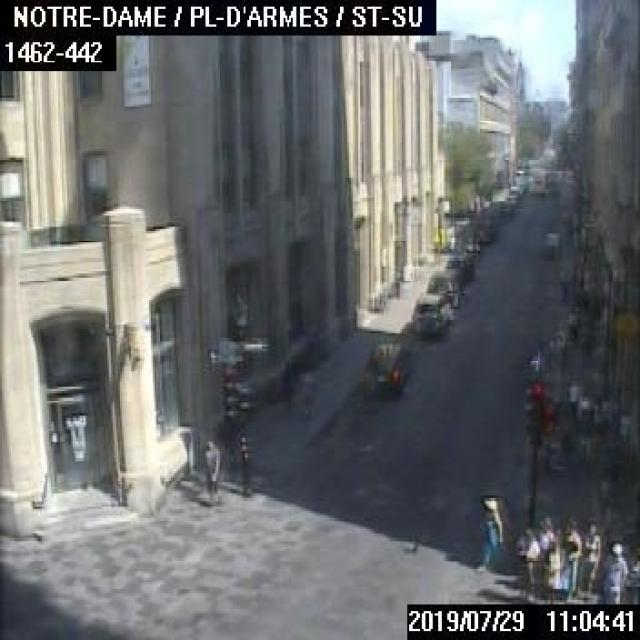pedestrian: (474, 485, 502, 571), (579, 519, 605, 594), (516, 515, 541, 593), (535, 513, 560, 591), (559, 509, 580, 594), (605, 536, 631, 602), (203, 434, 223, 502), (299, 370, 314, 414)
vehicle: (362, 338, 407, 393), (424, 266, 466, 309), (407, 292, 448, 336), (446, 251, 478, 286), (534, 229, 562, 258), (461, 235, 479, 256), (473, 225, 492, 242)
